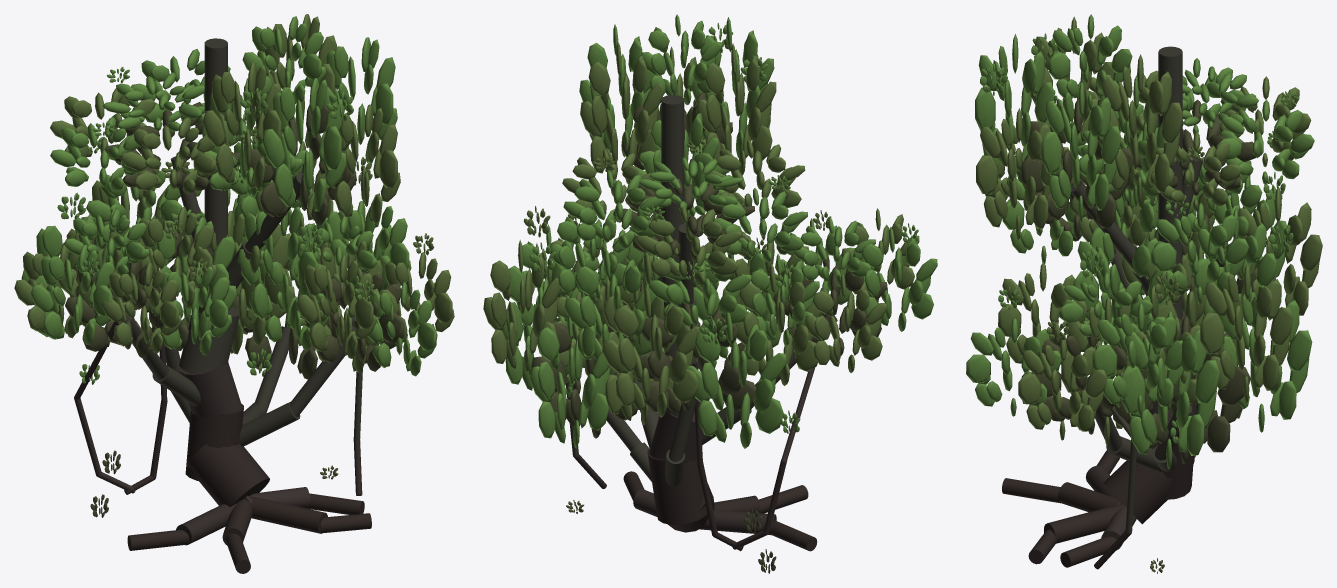
File: CMU3DBroadleafTree02.glb
3 views of the same model, side by side, from view 1: azimuth 30°, elevation 25°; view 2: azimuth 150°, elevation 25°; view 3: azimuth 270°, elevation 25° (orthographic). The views are drawn at different scales.
Visible parts, largest first — view 1: irregular rounded leaf cluster (×31), off-center crown cluster (×6), rounded leaf core (×6), source curved trunk 1, inferred hidden trunk continuation, source curved trunk 3, source curved trunk 2, source curved trunk 4, source root 2.1, inferred crown branch 5.1, inferred crown branch 3.2, inferred crown branch 5.2 (+11 smaller); view 2: irregular rounded leaf cluster (×30), off-center crown cluster (×5), rounded leaf core (×5), source curved trunk 2, inferred hidden trunk continuation, source curved trunk 3, source root 4.1, inferred crown branch 2.2, source root 4.2, inferred crown branch 1.2, source root 1.2, inferred crown branch 3.2 (+2 smaller); view 3: irregular rounded leaf cluster (×32), off-center crown cluster (×5), rounded leaf core (×5), inferred hidden trunk continuation, source curved trunk 1, source root 2.1, source root 1.1, inferred crown branch 6.2, source curved trunk 2, source root 1.2, source root 3.2, inferred crown branch 5.1 (+7 smaller).
Boxes of the visible parts, box(x1,y1,x2,y2) form: irregular rounded leaf cluster (×31): box(14, 14, 454, 376); off-center crown cluster (×6): box(64, 16, 377, 287); rounded leaf core (×6): box(65, 102, 406, 379); source curved trunk 1: box(186, 443, 269, 506); inferred hidden trunk continuation: box(204, 38, 227, 251); source curved trunk 3: box(177, 360, 242, 418); source curved trunk 2: box(185, 403, 243, 481); source curved trunk 4: box(179, 306, 239, 373); source root 2.1: box(249, 496, 327, 533); inferred crown branch 5.1: box(239, 401, 300, 446); inferred crown branch 3.2: box(255, 326, 290, 413); inferred crown branch 5.2: box(290, 326, 356, 416); irregular rounded leaf cluster (×30): box(483, 17, 937, 448); off-center crown cluster (×5): box(550, 14, 875, 333); rounded leaf core (×5): box(531, 93, 887, 438); source curved trunk 2: box(647, 447, 707, 524); inferred hidden trunk continuation: box(661, 95, 684, 357); source curved trunk 3: box(649, 410, 702, 462); source root 4.1: box(699, 509, 776, 535); inferred crown branch 2.2: box(669, 397, 696, 461); source root 4.2: box(771, 520, 817, 551); inferred crown branch 1.2: box(678, 223, 693, 304); source root 1.2: box(758, 485, 808, 513); inferred crown branch 3.2: box(606, 407, 641, 451); irregular rounded leaf cluster (×32): box(966, 16, 1322, 469); off-center crown cluster (×5): box(1048, 14, 1262, 344); rounded leaf core (×5): box(1021, 98, 1257, 464); inferred hidden trunk continuation: box(1158, 46, 1182, 320); source curved trunk 1: box(1103, 460, 1172, 524); source root 2.1: box(1044, 504, 1123, 543); source root 1.1: box(1058, 482, 1118, 512); inferred crown branch 6.2: box(1071, 180, 1135, 269); source curved trunk 2: box(1152, 442, 1193, 499); source root 1.2: box(1002, 478, 1060, 503); source root 3.2: box(1060, 536, 1116, 567); inferred crown branch 5.1: box(1106, 436, 1160, 470).
Size of the model in its own units: 1.87 by 2.24 by 1.41.
